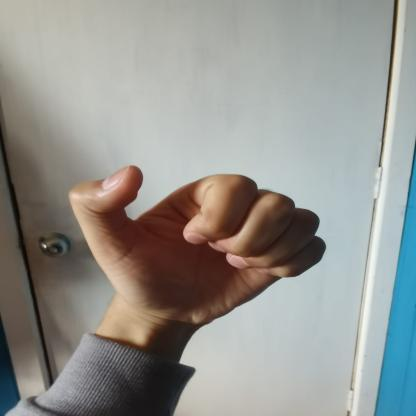E: (48, 146, 342, 344)
